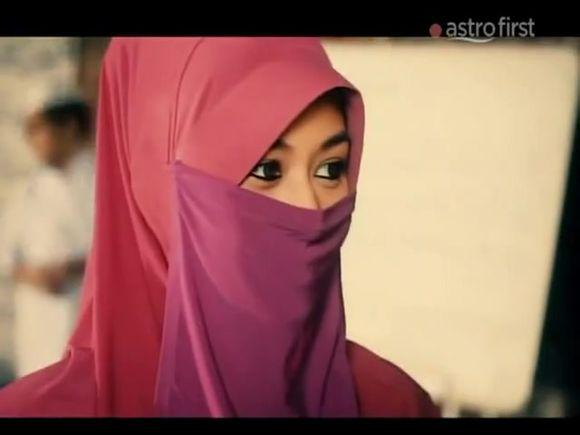OK: (211, 134, 360, 296)
